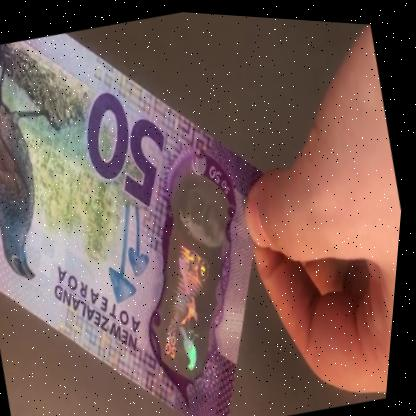50B: (125, 159, 265, 379)
